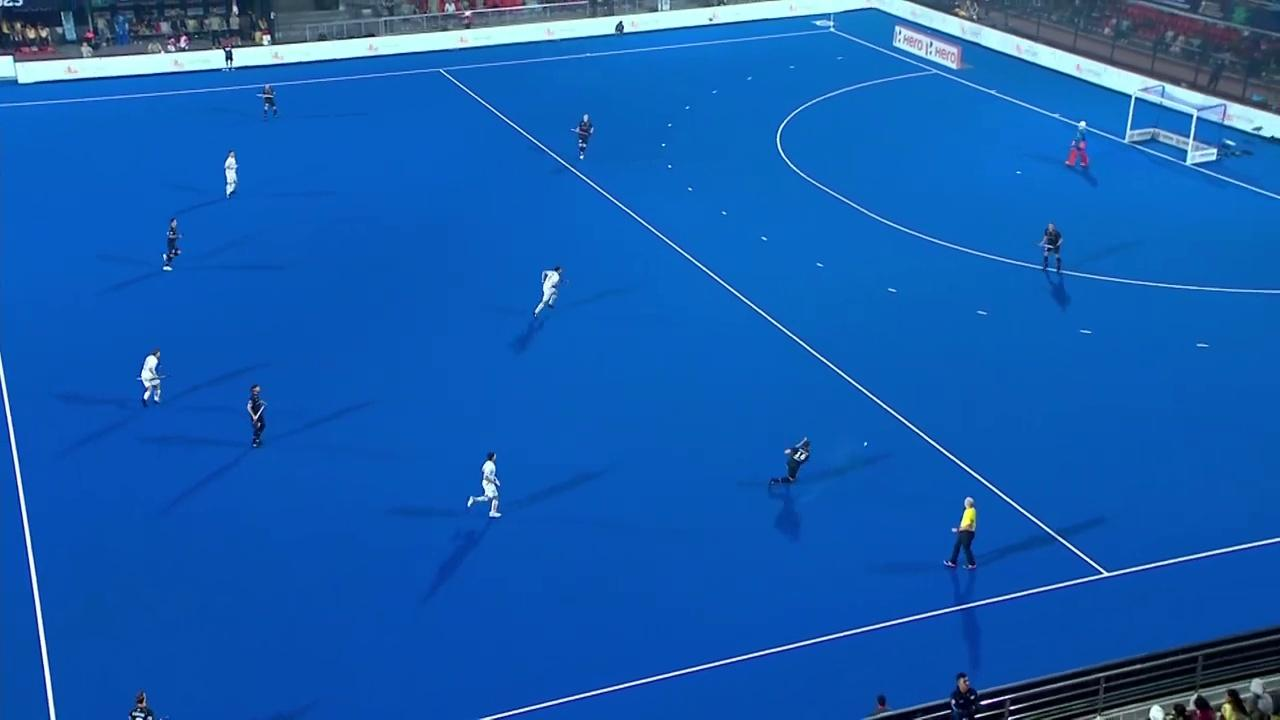ball: (857, 435, 878, 454)
